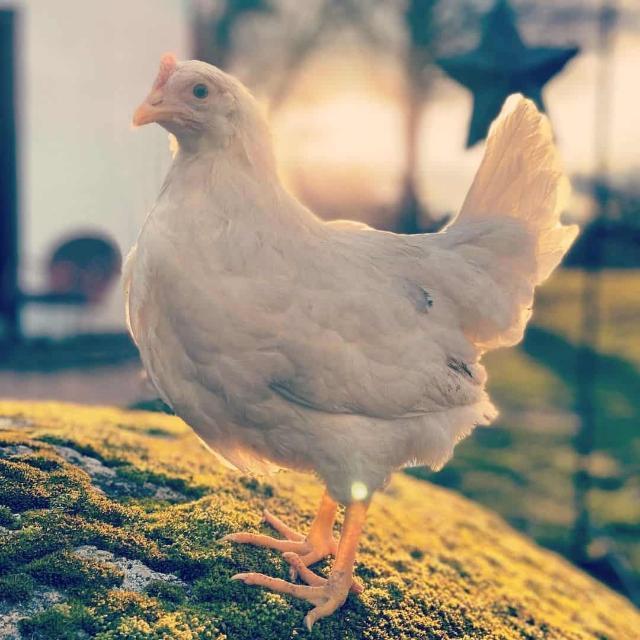Chicken: (119, 53, 579, 624)
